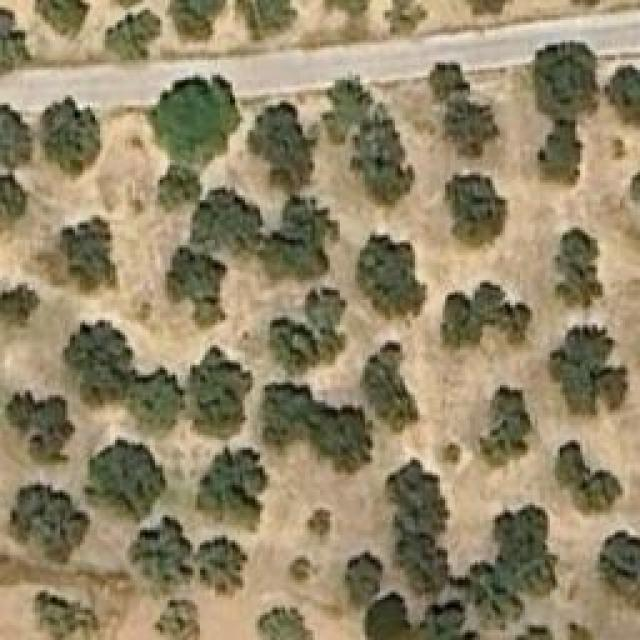Tree: (323, 78, 413, 208), (263, 380, 373, 473), (145, 73, 243, 166), (388, 460, 451, 598), (268, 288, 348, 378), (548, 328, 628, 418), (260, 193, 340, 283), (83, 440, 166, 523), (430, 63, 500, 158), (10, 485, 90, 565), (248, 103, 318, 193), (355, 232, 425, 320), (365, 592, 493, 640), (195, 448, 268, 531), (442, 283, 530, 348), (493, 508, 556, 598), (5, 390, 78, 465), (360, 343, 420, 433), (65, 318, 130, 401), (192, 350, 250, 443), (165, 245, 228, 330), (533, 42, 598, 120), (555, 440, 623, 513), (193, 187, 263, 255), (43, 98, 103, 173), (445, 173, 505, 248), (130, 515, 193, 583), (480, 387, 530, 465), (555, 228, 603, 308), (64, 218, 115, 291), (125, 370, 178, 433), (600, 530, 640, 613), (35, 590, 100, 640), (105, 10, 160, 60), (198, 535, 248, 588), (234, 0, 297, 42), (540, 125, 585, 180), (168, 0, 228, 40), (35, 0, 92, 42), (602, 65, 640, 125), (345, 550, 383, 610), (255, 605, 315, 640), (0, 102, 32, 167), (158, 165, 201, 213), (152, 600, 200, 640), (383, 3, 428, 38), (0, 285, 38, 325), (0, 30, 30, 73), (0, 172, 25, 220), (308, 510, 331, 545), (435, 437, 460, 465), (468, 0, 513, 15), (290, 555, 313, 583), (613, 140, 628, 160)
